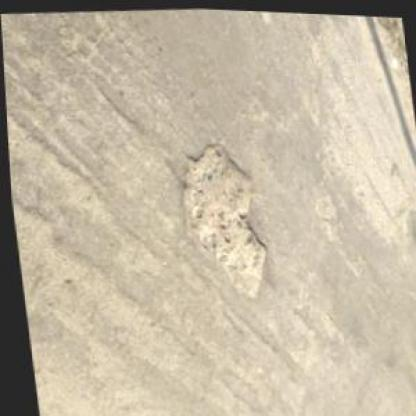pothole: (170, 136, 270, 299)
